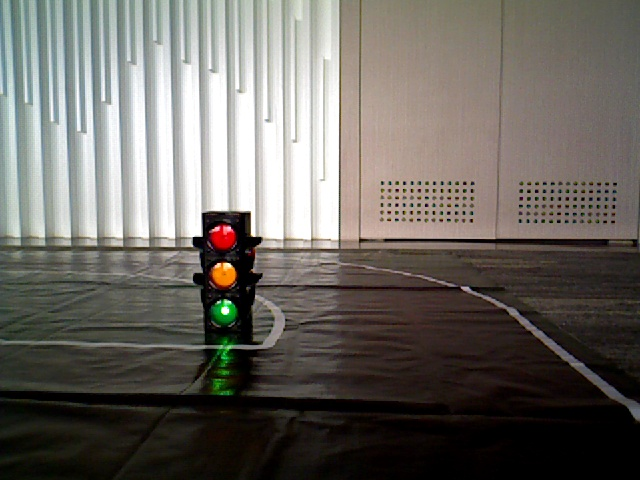green: (205, 216, 250, 335)
